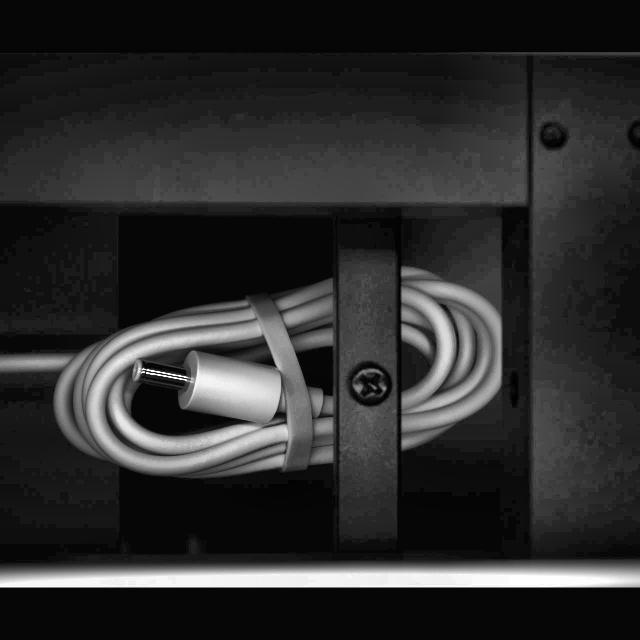Cable: (0, 259, 505, 485)
